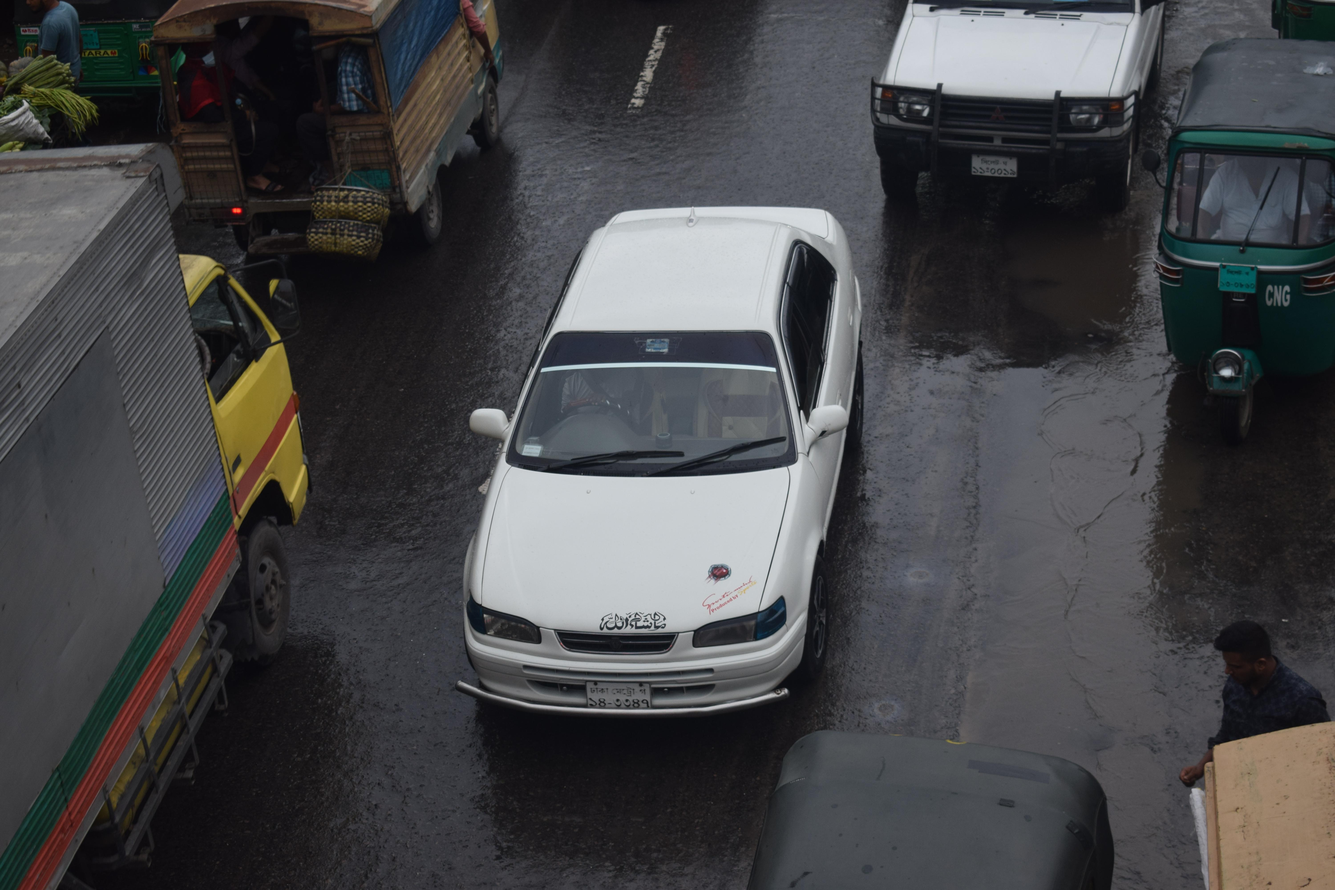Car: (419, 164, 887, 786), (134, 0, 531, 289), (834, 0, 1185, 249)
Truck: (0, 92, 356, 890)
